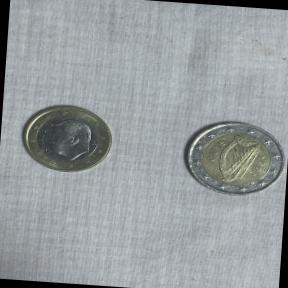1 Euro-B: (16, 99, 116, 177)
2 Euro-B: (173, 110, 288, 202)
